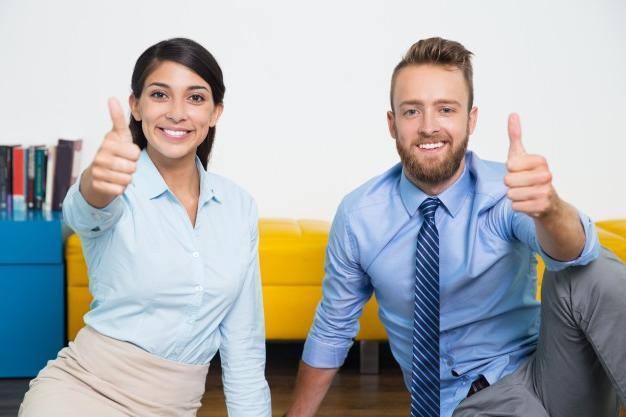thumbsup: (503, 113, 553, 213), (90, 97, 140, 195)
